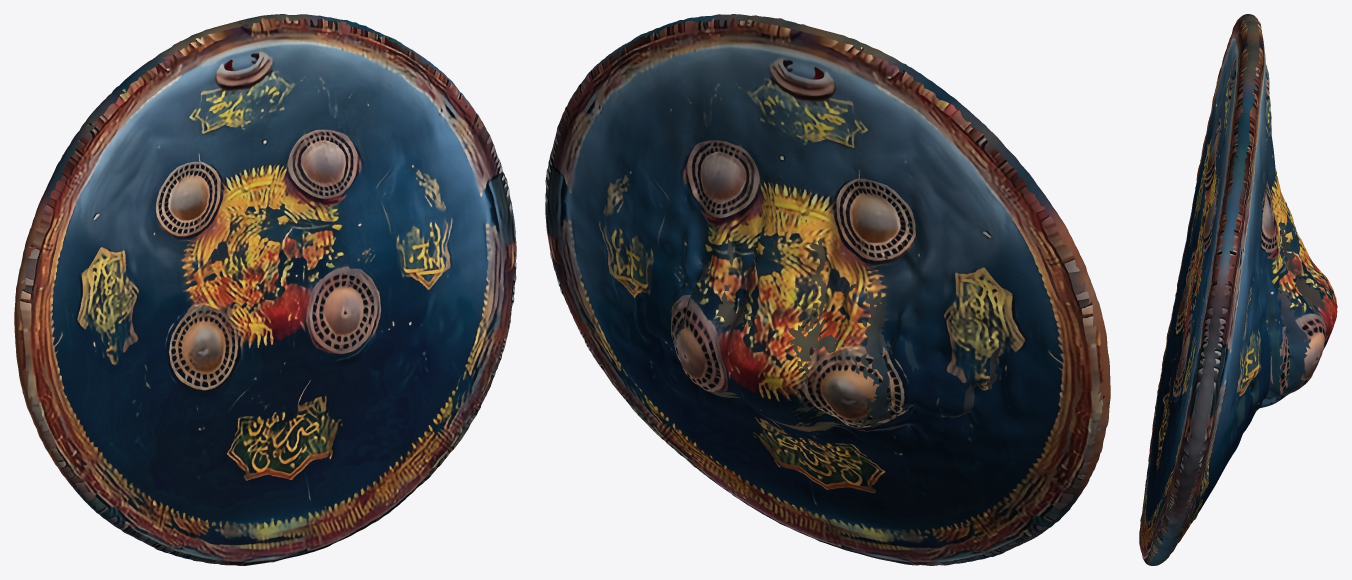
Rendered from kfl-2132.glb.
The picture shows the model from 3 angles, left to right: view 1: azimuth 30°, elevation 25°; view 2: azimuth 150°, elevation 25°; view 3: azimuth 270°, elevation 25°; orthographic projection. The views are drawn at different scales.
Visible parts, largest first — view 1: kfl-2132; view 2: kfl-2132; view 3: kfl-2132.
Part boxes in pixels (left/top/right/bottom): kfl-2132: left=14, top=14, right=516, bottom=565; kfl-2132: left=545, top=14, right=1110, bottom=565; kfl-2132: left=1139, top=14, right=1337, bottom=565.
Size of the model in its own units: 0.9925 by 0.9604 by 0.3459.
4 materials, 4 textured.
